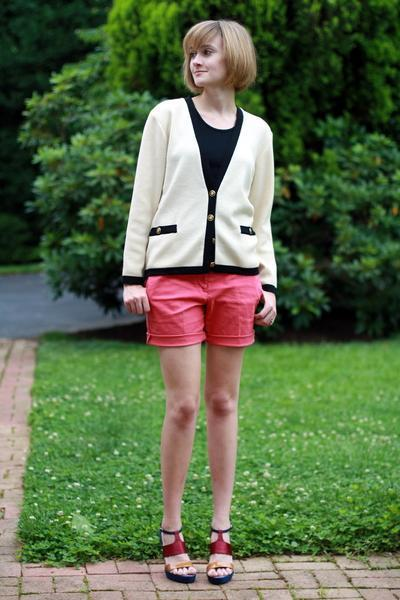jacket: (122, 98, 276, 287)
shirt: (188, 108, 243, 192)
shoe: (144, 528, 238, 585)
shorts: (132, 270, 276, 347)
